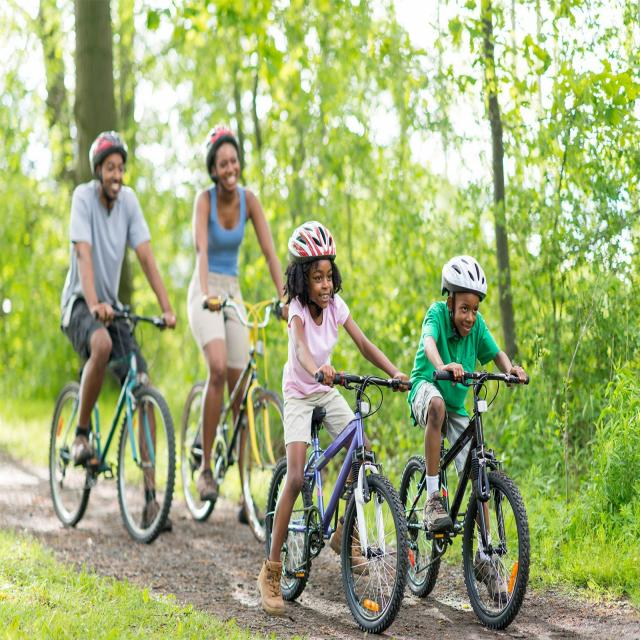bicycle: (393, 367, 552, 632), (264, 369, 411, 636), (44, 291, 178, 568), (181, 280, 297, 558)
